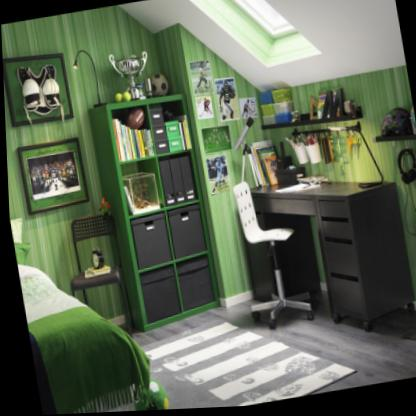Chair: (224, 173, 314, 338)
